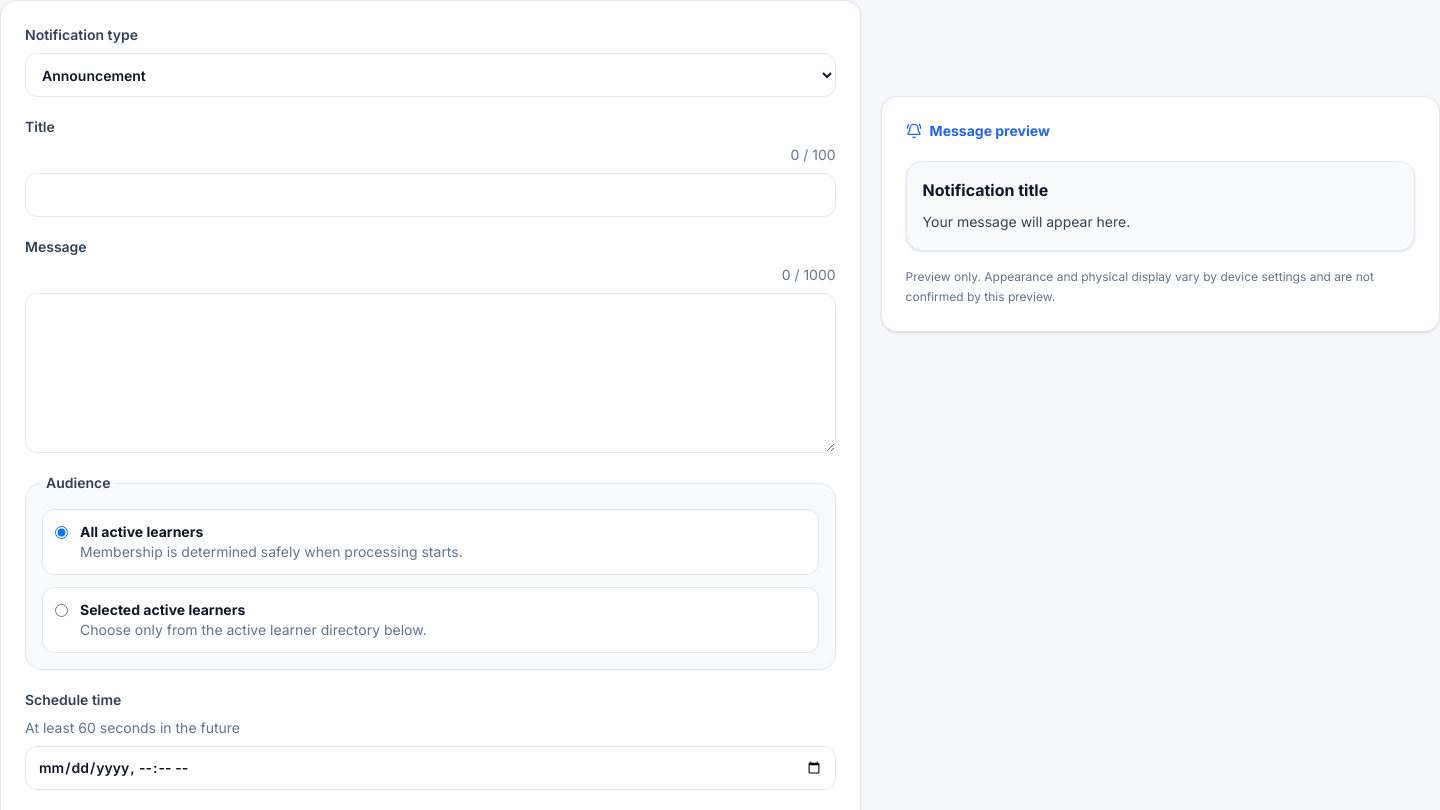
it: uses strict audience controls, counters, preview, and disables send when the provider is unavailable
Expected: the text "0 / 100" is shown, x1=790 y1=145 x2=836 y2=165
Expected: the text "0 / 1000" is shown, x1=782 y1=265 x2=836 y2=285
Type "Study reminder" into the field labelled "Title".
click(430, 195); type("Study reminder")  # box x1=25 y1=173 x2=836 y2=217
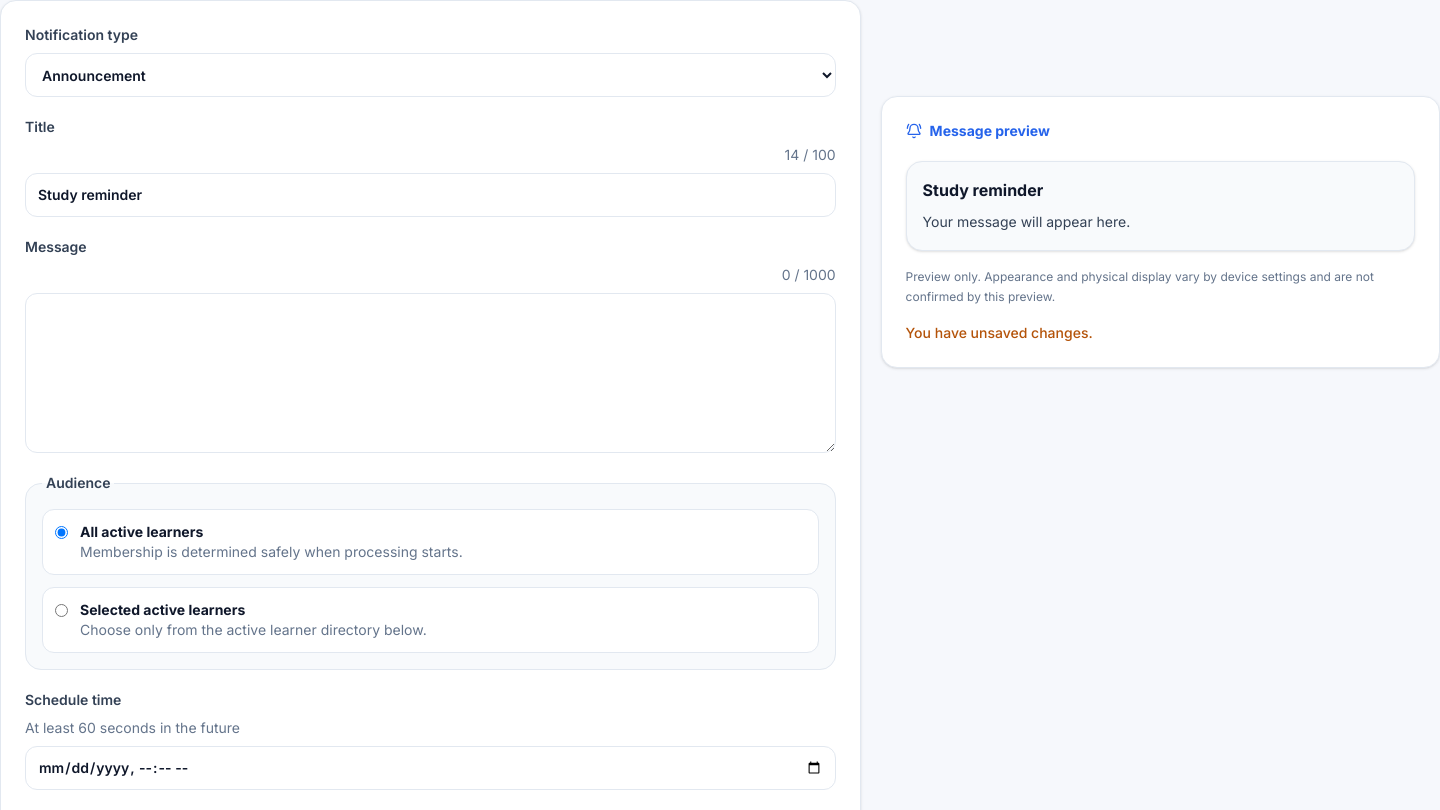
Type "Review the cardiovascular module." into the text box labelled "Message".
click(430, 373); type("Review the cardiovascular module.")  # box x1=25 y1=293 x2=836 y2=453
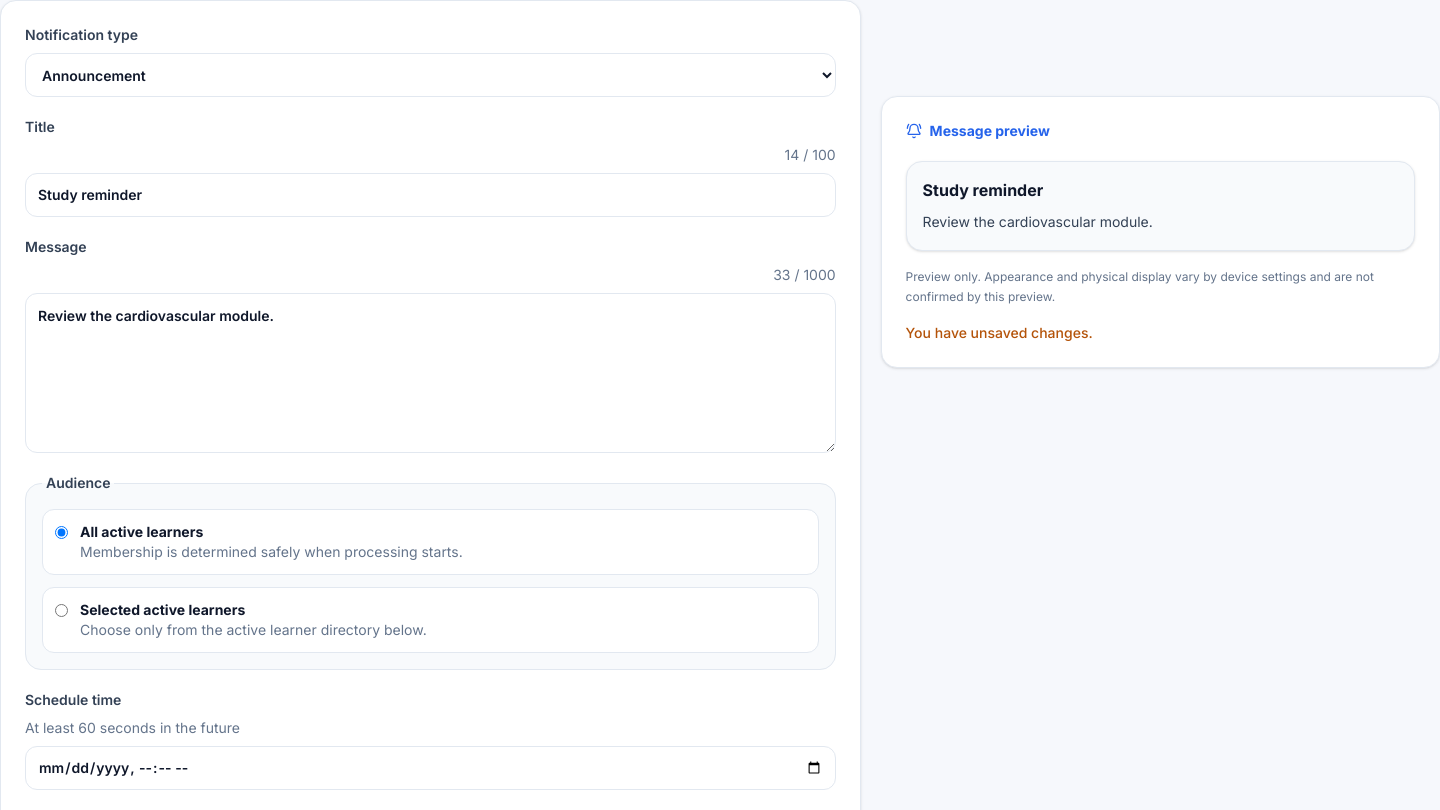
Expected: the heading "Study reminder" is shown, x1=923 y1=180 x2=1043 y2=200
Expected: the element named "Notification preview" shows "Review the cardiovascular module.", x1=923 y1=213 x2=1153 y2=230
Click the radio button labelled "Selected active learners".
click(62, 610)  # box x1=55 y1=604 x2=68 y2=617
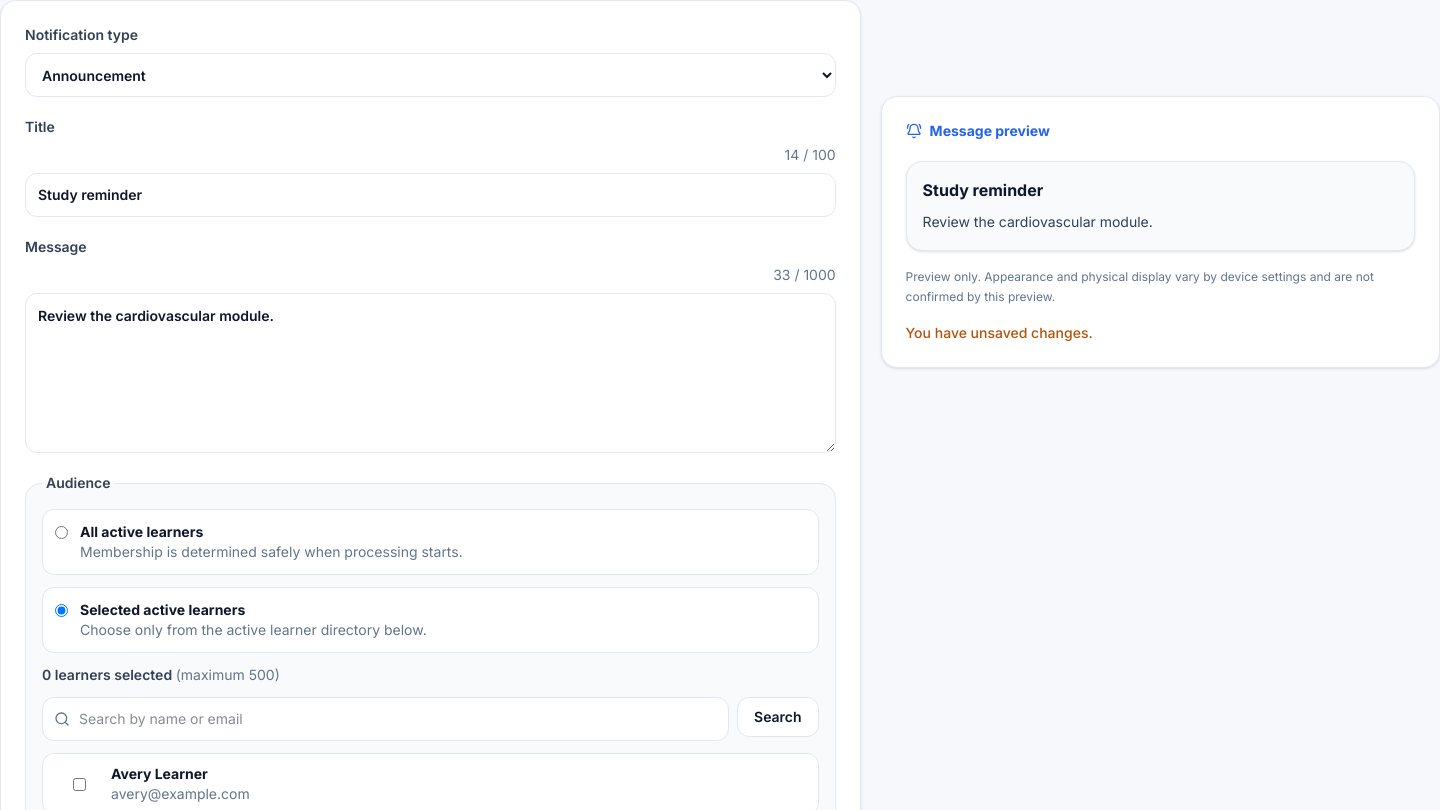
Expected: the checkbox labelled "Avery Learner avery@example.com" is shown, x1=72 y1=778 x2=86 y2=790
